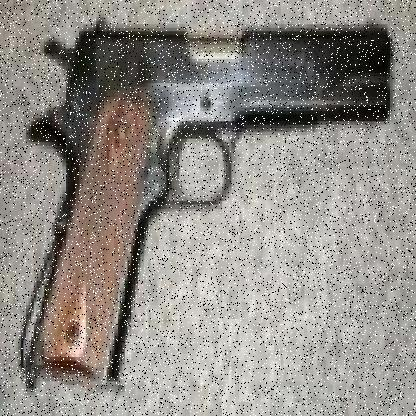pistol: (13, 14, 393, 385)
